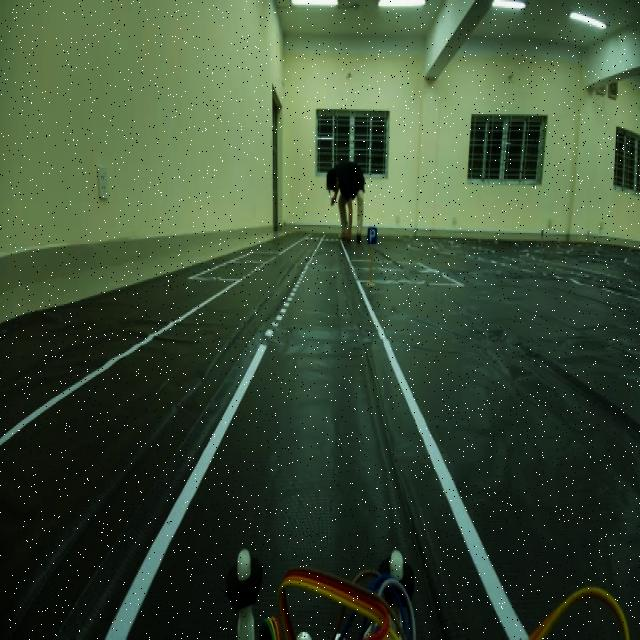parking: (365, 222, 379, 246)
